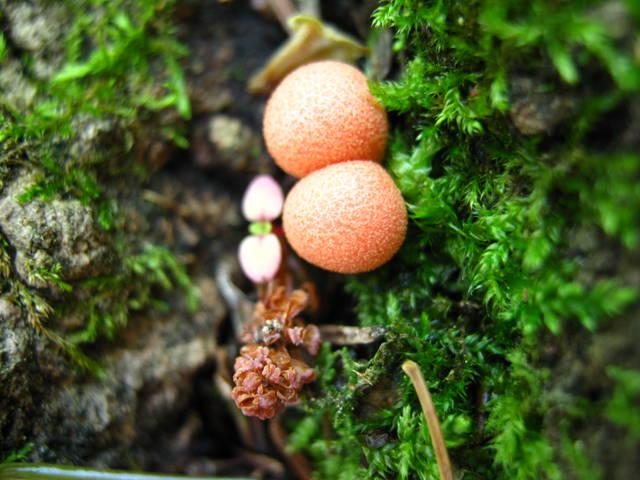poisonous_mushroom: (261, 58, 389, 178), (281, 158, 408, 274)
